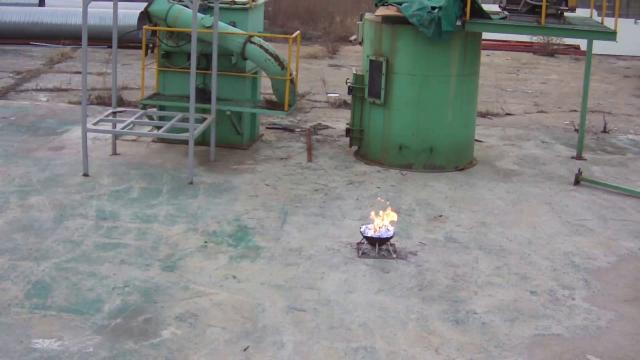fire: (369, 205, 398, 231)
